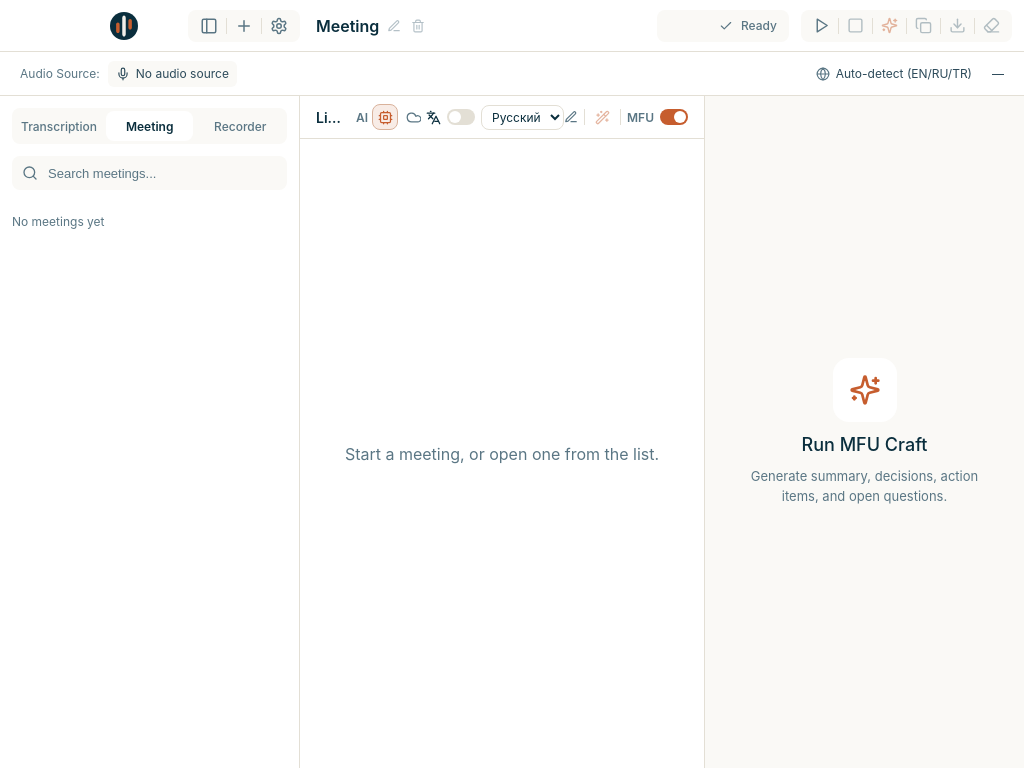
Test: StreamingView › enables Stop as soon as the backend reports Starting
Step 1. Click the button named "Start" → (822, 26), box [809, 13, 834, 38]
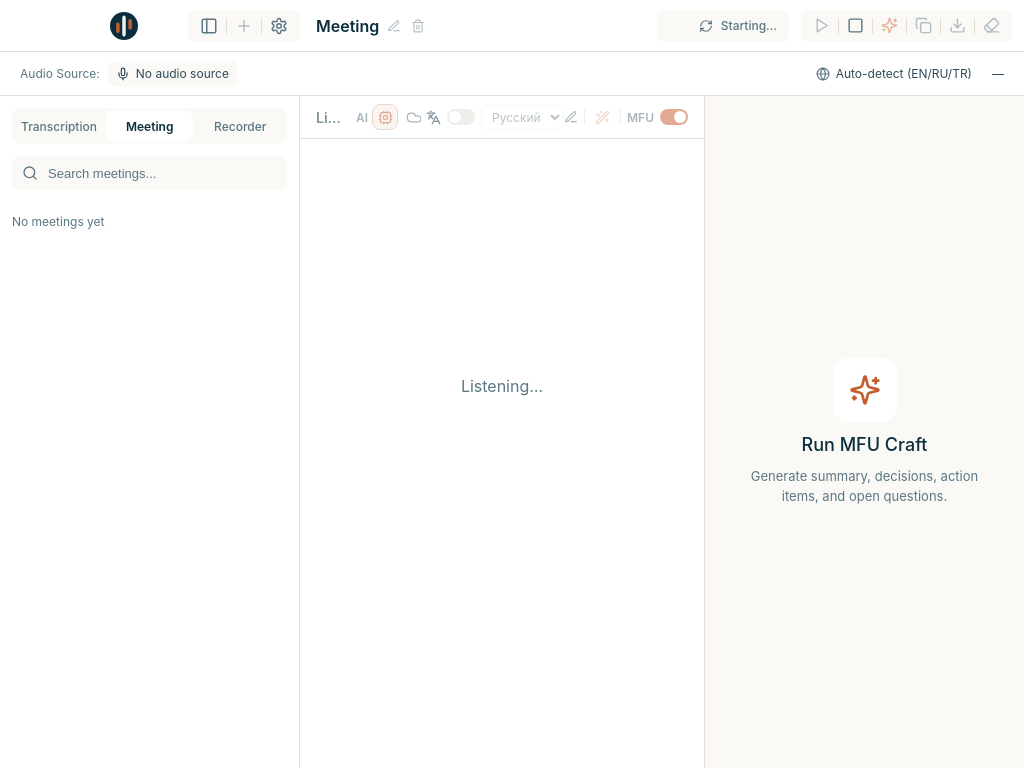
Expected: the button named "Stop" is enabled, [843, 13, 868, 38]
